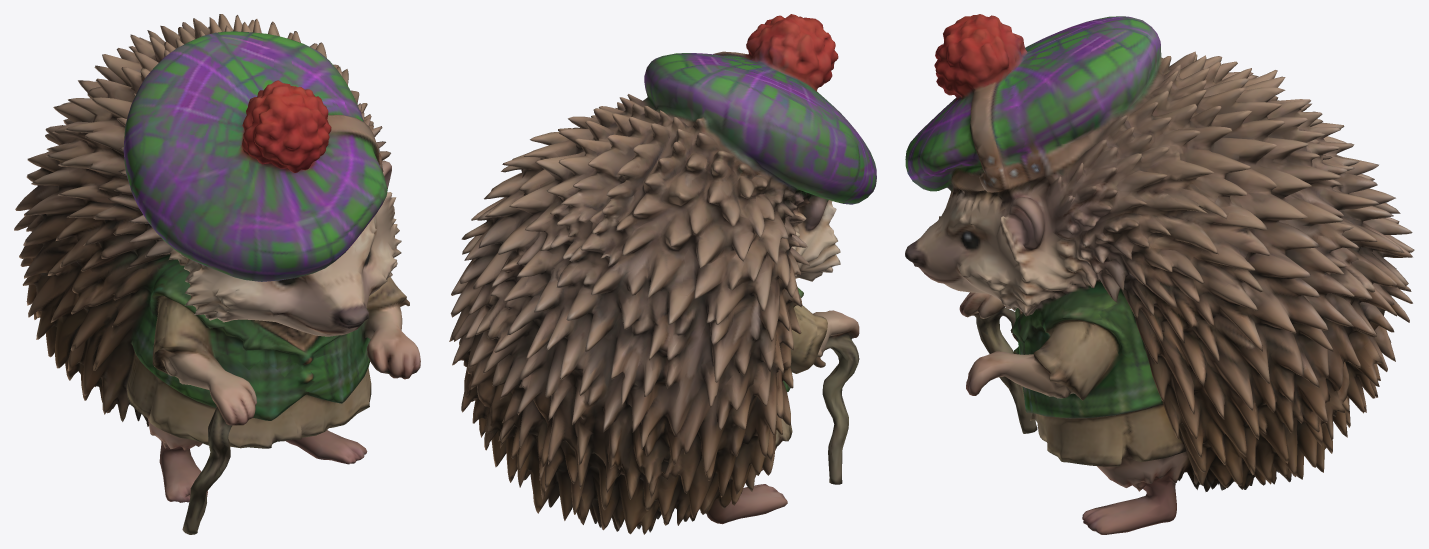
File: Spindle.glb
3 renders of one model, left to right at view 1: azimuth 30°, elevation 25°; view 2: azimuth 150°, elevation 25°; view 3: azimuth 270°, elevation 25°, orthographic. The views are drawn at different scales.
Parts seen in each view (by area): view 1: HedgehogCharacter; view 2: HedgehogCharacter; view 3: HedgehogCharacter.
Part boxes in pixels (x1,y1,x2,y2): HedgehogCharacter: (14,14,420,534); HedgehogCharacter: (449,14,876,534); HedgehogCharacter: (905,14,1414,534).
Size of the model in its own units: 0.1636 by 0.2155 by 0.22.
Materials: 1 (1 with a texture image).
